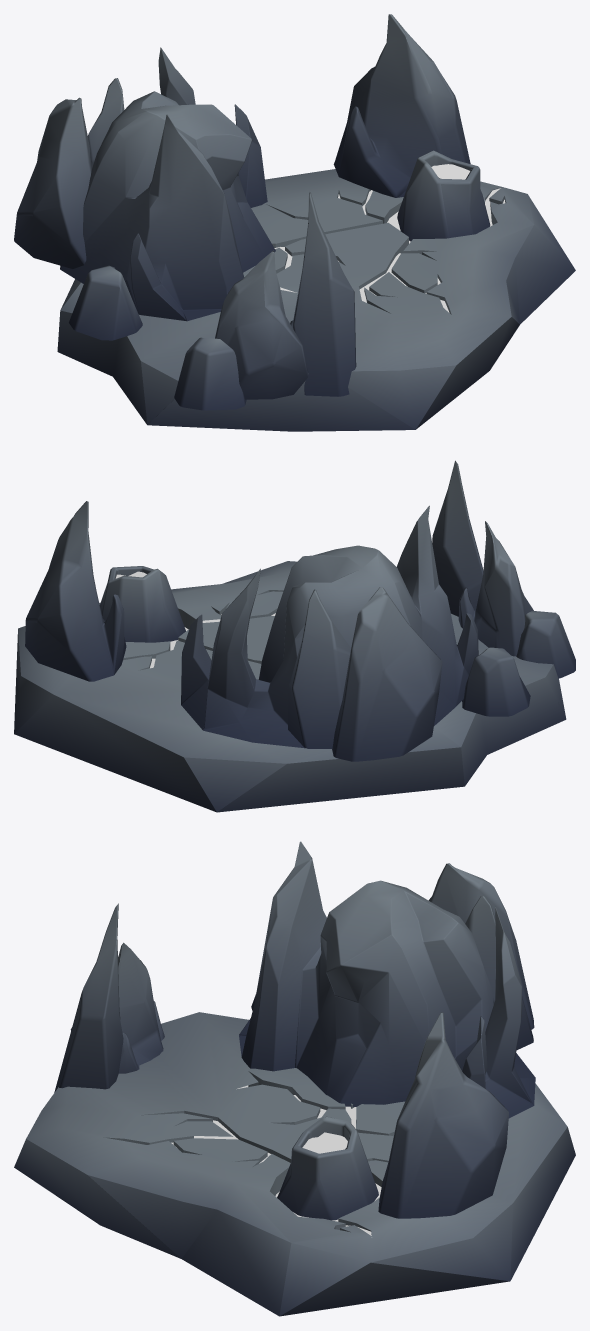
File: RoshanLair.fbx
3 views of the same model, one above another, from view 1: azimuth 30°, elevation 25°; view 2: azimuth 150°, elevation 25°; view 3: azimuth 270°, elevation 25° (orthographic). The views are drawn at different scales.
Visible parts, largest first — view 1: Plane.083, Mesh_0.001, Mesh_0.006, Mesh_0.007, Mesh_0.005, Mesh_0.009, Mesh_0.002, Mesh_0.011, Mesh_0.003, Mesh_0.008, Plane.084; view 2: Plane.083, Mesh_0.001, Mesh_0.007, Mesh_0.006, Mesh_0.008, Mesh_0.005, Mesh_0.002, Mesh_0.009, Mesh_0.003, Mesh_0.011; view 3: Plane.083, Mesh_0.001, Mesh_0.006, Mesh_0.002, Mesh_0.009, Mesh_0.005, Mesh_0.007, Mesh_0.008, Plane.085, Plane.084.
Part boxes in pixels (bbox=[...]): Plane.083: bbox=[57, 169, 575, 431]; Mesh_0.001: bbox=[60, 47, 275, 321]; Mesh_0.006: bbox=[333, 14, 470, 197]; Mesh_0.007: bbox=[14, 97, 91, 268]; Mesh_0.005: bbox=[215, 250, 308, 399]; Mesh_0.009: bbox=[293, 191, 356, 396]; Mesh_0.002: bbox=[397, 150, 490, 241]; Mesh_0.011: bbox=[174, 337, 246, 410]; Mesh_0.003: bbox=[69, 265, 142, 340]; Mesh_0.008: bbox=[88, 78, 124, 169]; Plane.084: bbox=[274, 187, 505, 312]; Plane.083: bbox=[14, 561, 566, 812]; Mesh_0.001: bbox=[181, 505, 478, 748]; Mesh_0.007: bbox=[332, 587, 442, 761]; Mesh_0.006: bbox=[25, 501, 126, 681]; Mesh_0.008: bbox=[288, 589, 350, 748]; Mesh_0.005: bbox=[458, 521, 533, 656]; Mesh_0.002: bbox=[99, 566, 185, 642]; Mesh_0.009: bbox=[432, 460, 483, 616]; Mesh_0.003: bbox=[462, 647, 530, 716]; Mesh_0.011: bbox=[516, 610, 575, 678]; Plane.083: bbox=[14, 1012, 575, 1316]; Mesh_0.001: bbox=[239, 841, 535, 1118]; Mesh_0.006: bbox=[378, 1012, 508, 1218]; Mesh_0.002: bbox=[277, 1116, 378, 1220]; Mesh_0.009: bbox=[54, 903, 123, 1092]; Mesh_0.005: bbox=[70, 942, 163, 1073]; Mesh_0.007: bbox=[428, 863, 534, 1029]; Mesh_0.008: bbox=[465, 896, 533, 1050]; Plane.085: bbox=[302, 1132, 347, 1153]; Plane.084: bbox=[171, 1085, 381, 1237].
Size of the model in its own units: 656 by 311 by 597.
